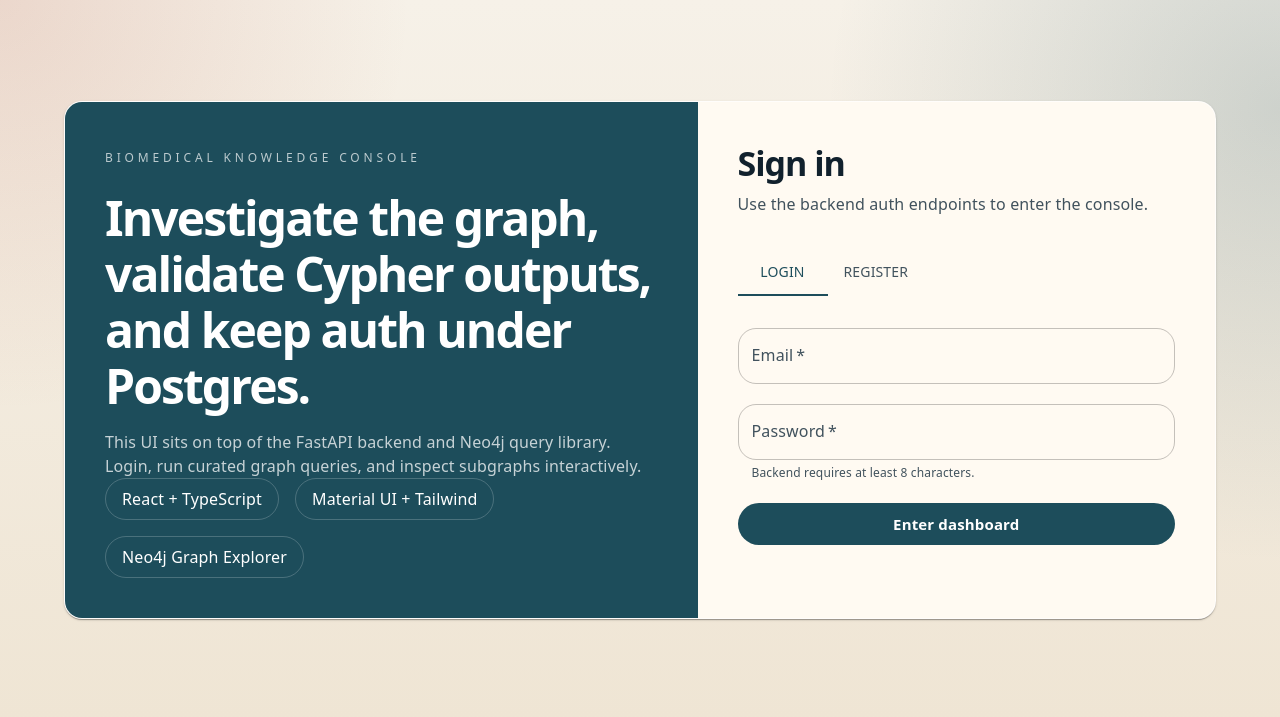
Test: login flow authenticates and redirects to dashboard
Type "graph@example.com" into the field labelled "Email *" at (956, 356), box [738,328,1175,384]
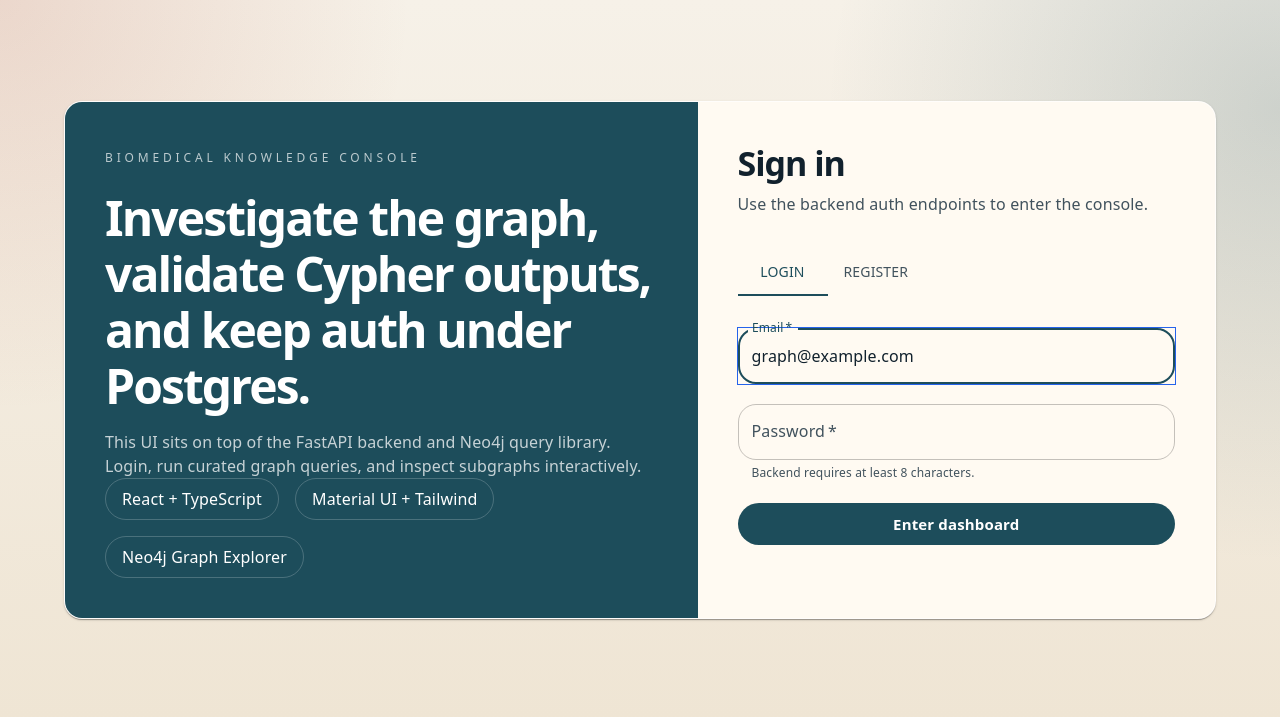
Type "strong-pass-123" into the password field labelled "Password *" at (956, 432), box [738,404,1175,460]
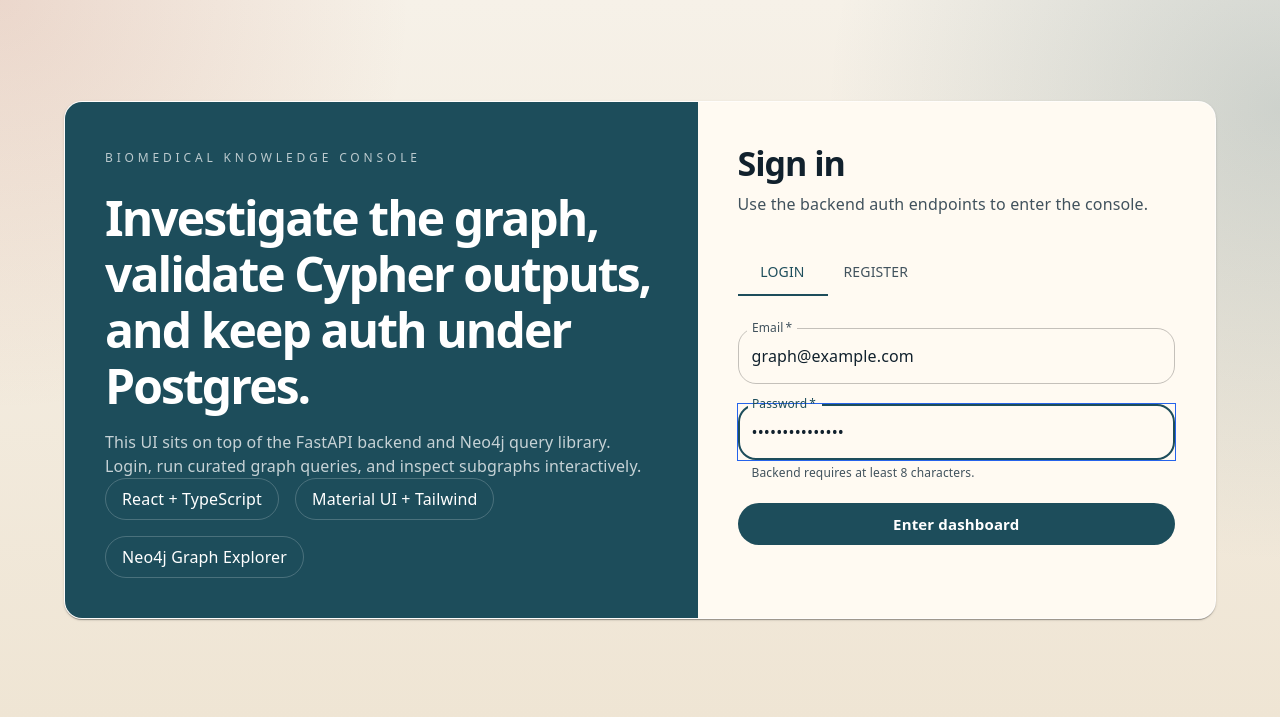
Click the button "Enter dashboard" at (956, 524), box [738,503,1175,545]
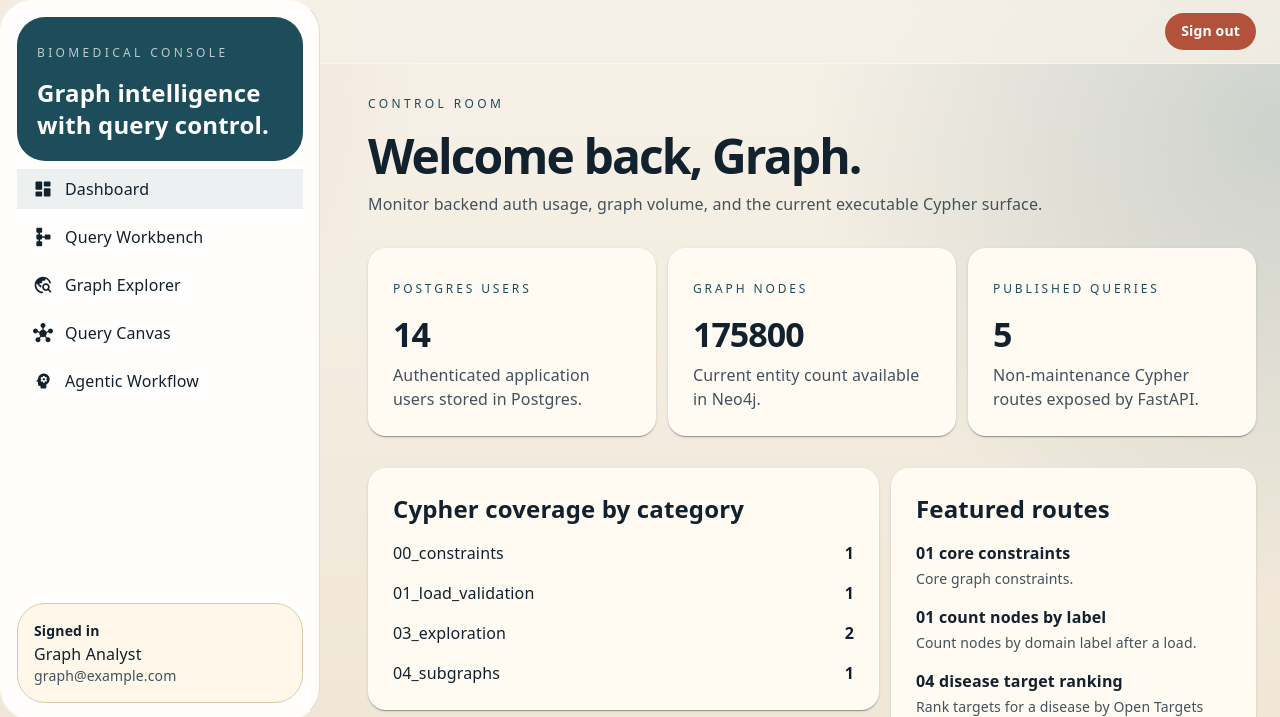
Expected: the heading "14" is shown, [393,311,430,357]
